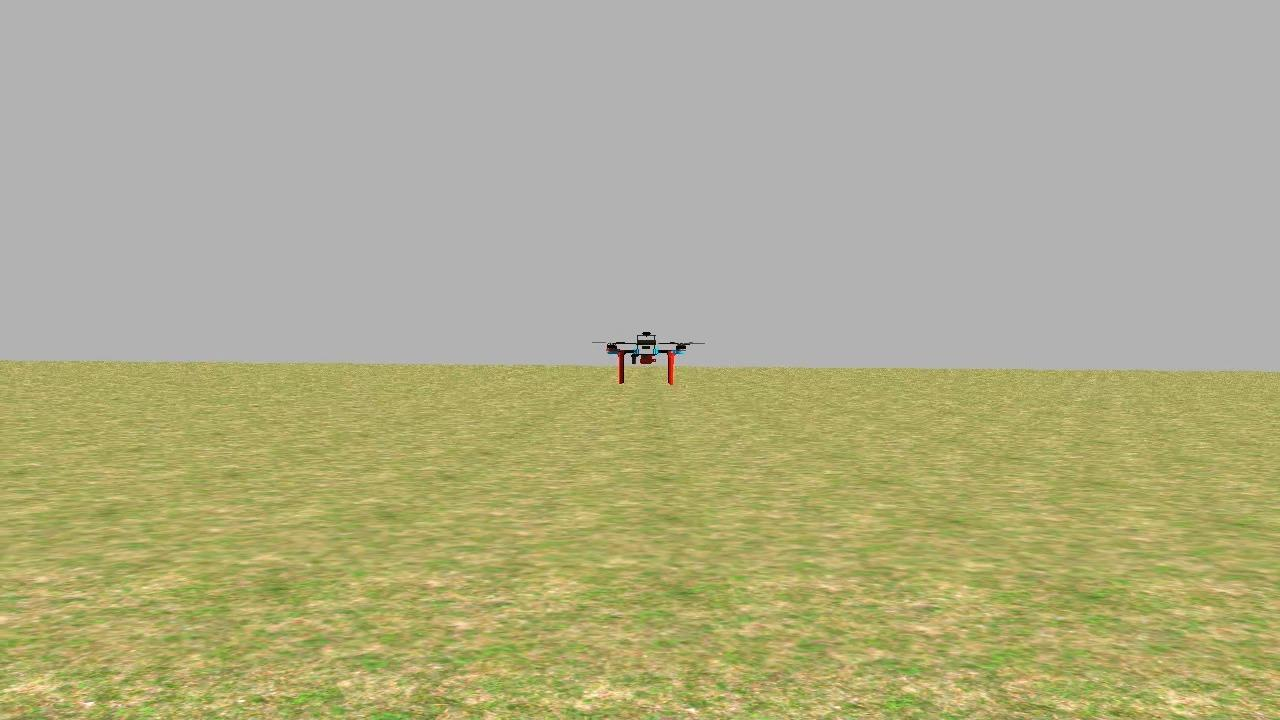UAV: (596, 328, 689, 398)
